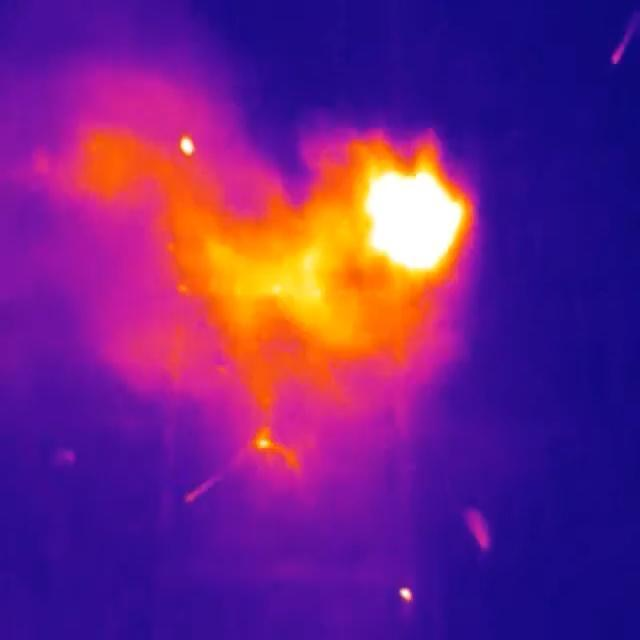fire: (142, 124, 475, 465)
